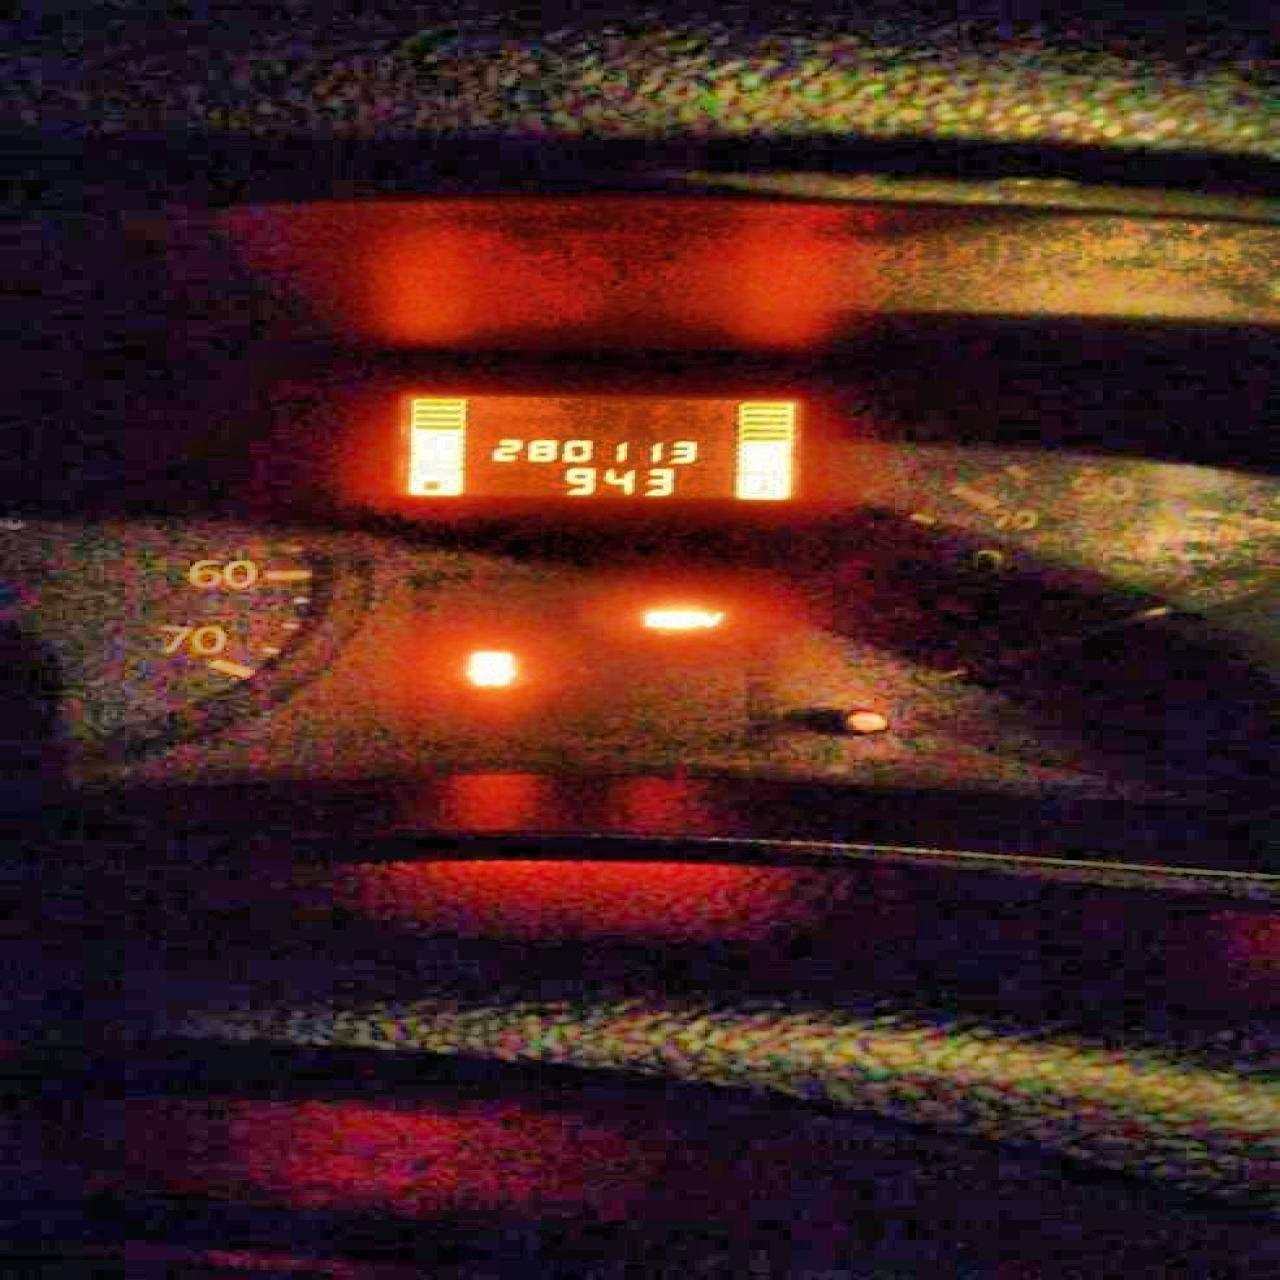0: (559, 437, 593, 463)
1: (612, 437, 629, 463), (646, 437, 663, 463)
2: (489, 436, 520, 462)
3: (640, 465, 674, 496), (669, 438, 697, 463)
4: (601, 467, 632, 496)
8: (525, 436, 557, 464)
9: (561, 465, 593, 495)
odometer: (377, 381, 815, 508)
